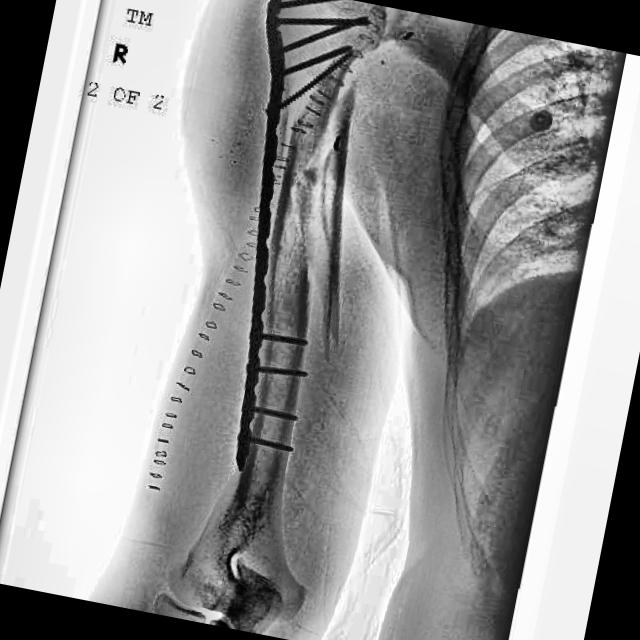humerus: (278, 225, 368, 390)
